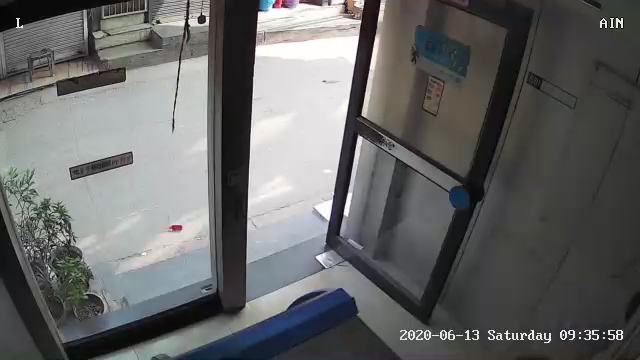open: (192, 5, 548, 325)
